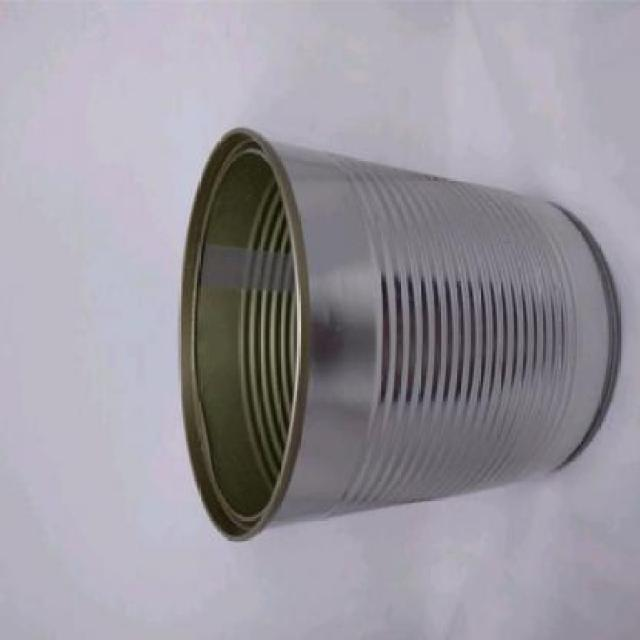Metal: (178, 126, 622, 544)
